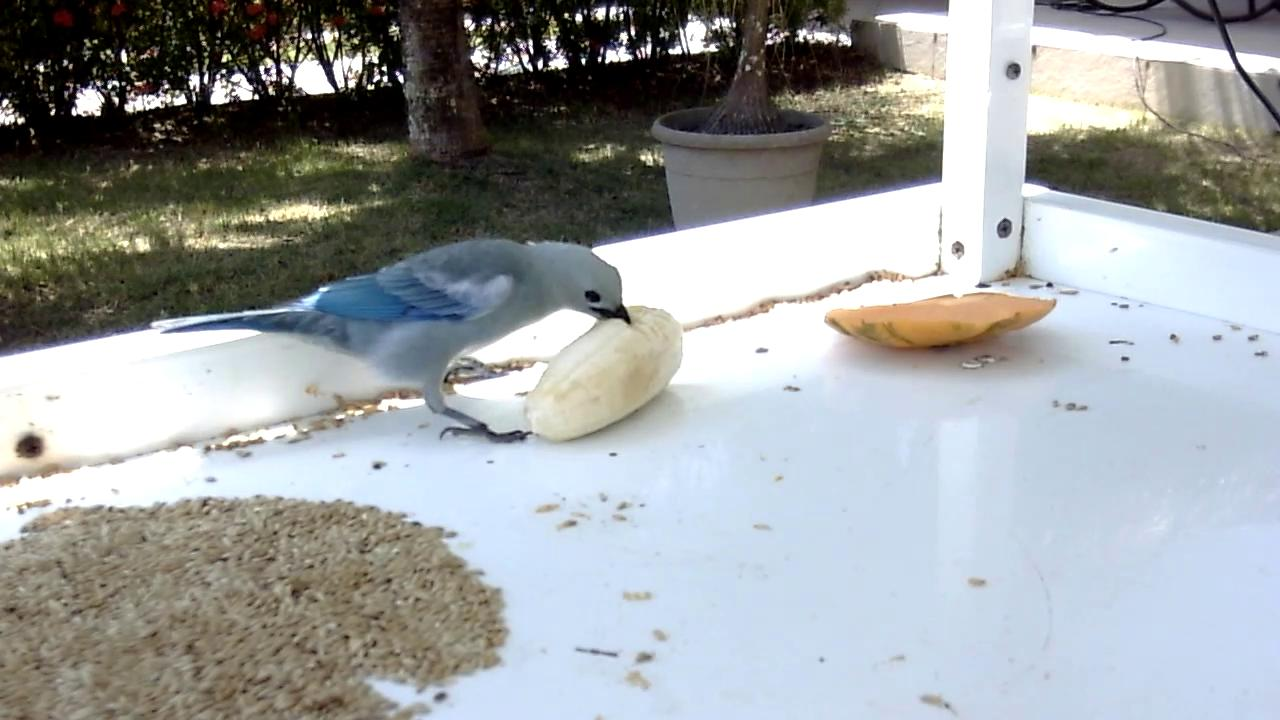sanhaco_da_amazonia: (151, 237, 635, 447)
